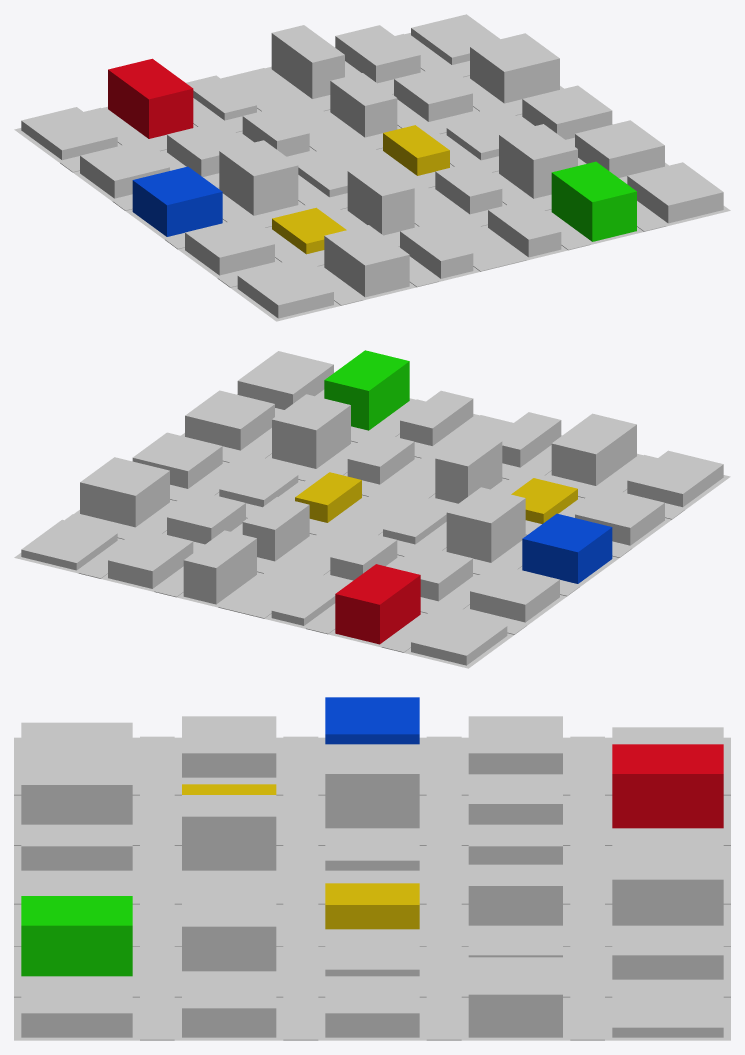
The model's file is city.fbx.
The picture shows the model from 3 angles, top to bottom: view 1: azimuth 30°, elevation 25°; view 2: azimuth 150°, elevation 25°; view 3: azimuth 270°, elevation 25°; orthographic projection. The views are drawn at different scales.
Visible parts, largest first — view 1: Plane; view 2: Plane; view 3: Plane.
Boxes of the visible parts, x1,y1,x2,y2 form: Plane: [14, 14, 730, 321]; Plane: [14, 350, 730, 668]; Plane: [14, 697, 730, 1040].
Bounding box in the file's own units: 3206 × 267 × 3206.
